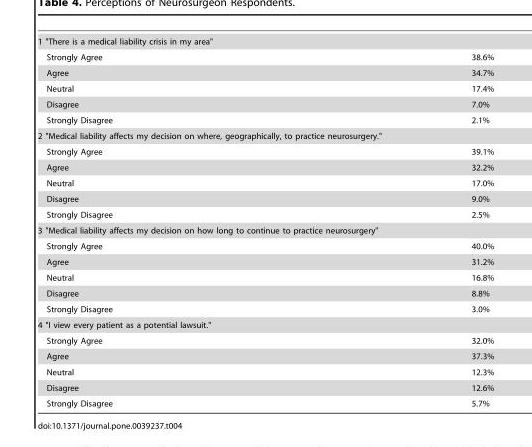table: (37, 36, 493, 407)
table column: (37, 36, 291, 407), (291, 36, 493, 407)
table projected row header: (37, 127, 493, 143), (37, 222, 493, 238), (37, 316, 493, 332), (37, 36, 493, 49)
table row: (37, 64, 493, 80), (37, 80, 493, 96), (37, 96, 493, 112), (37, 127, 493, 143), (37, 143, 493, 159), (37, 159, 493, 175), (37, 190, 493, 206), (37, 206, 493, 222), (37, 222, 493, 238), (37, 253, 493, 269), (37, 269, 493, 285), (37, 285, 493, 301), (37, 316, 493, 332), (37, 332, 493, 348), (37, 348, 493, 364), (37, 379, 493, 395), (37, 49, 493, 64), (37, 112, 493, 127), (37, 175, 493, 190), (37, 238, 493, 253), (37, 301, 493, 316), (37, 364, 493, 379), (37, 36, 493, 49), (37, 395, 493, 407)
